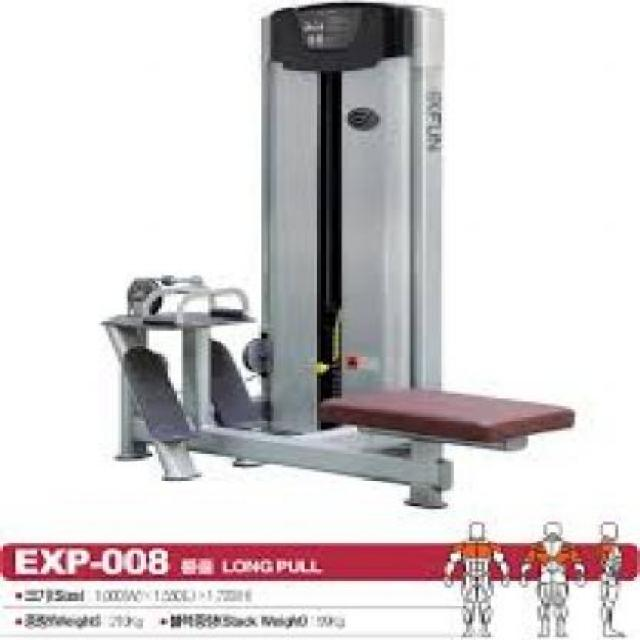Seated Cable Rows: (85, 3, 580, 502)
